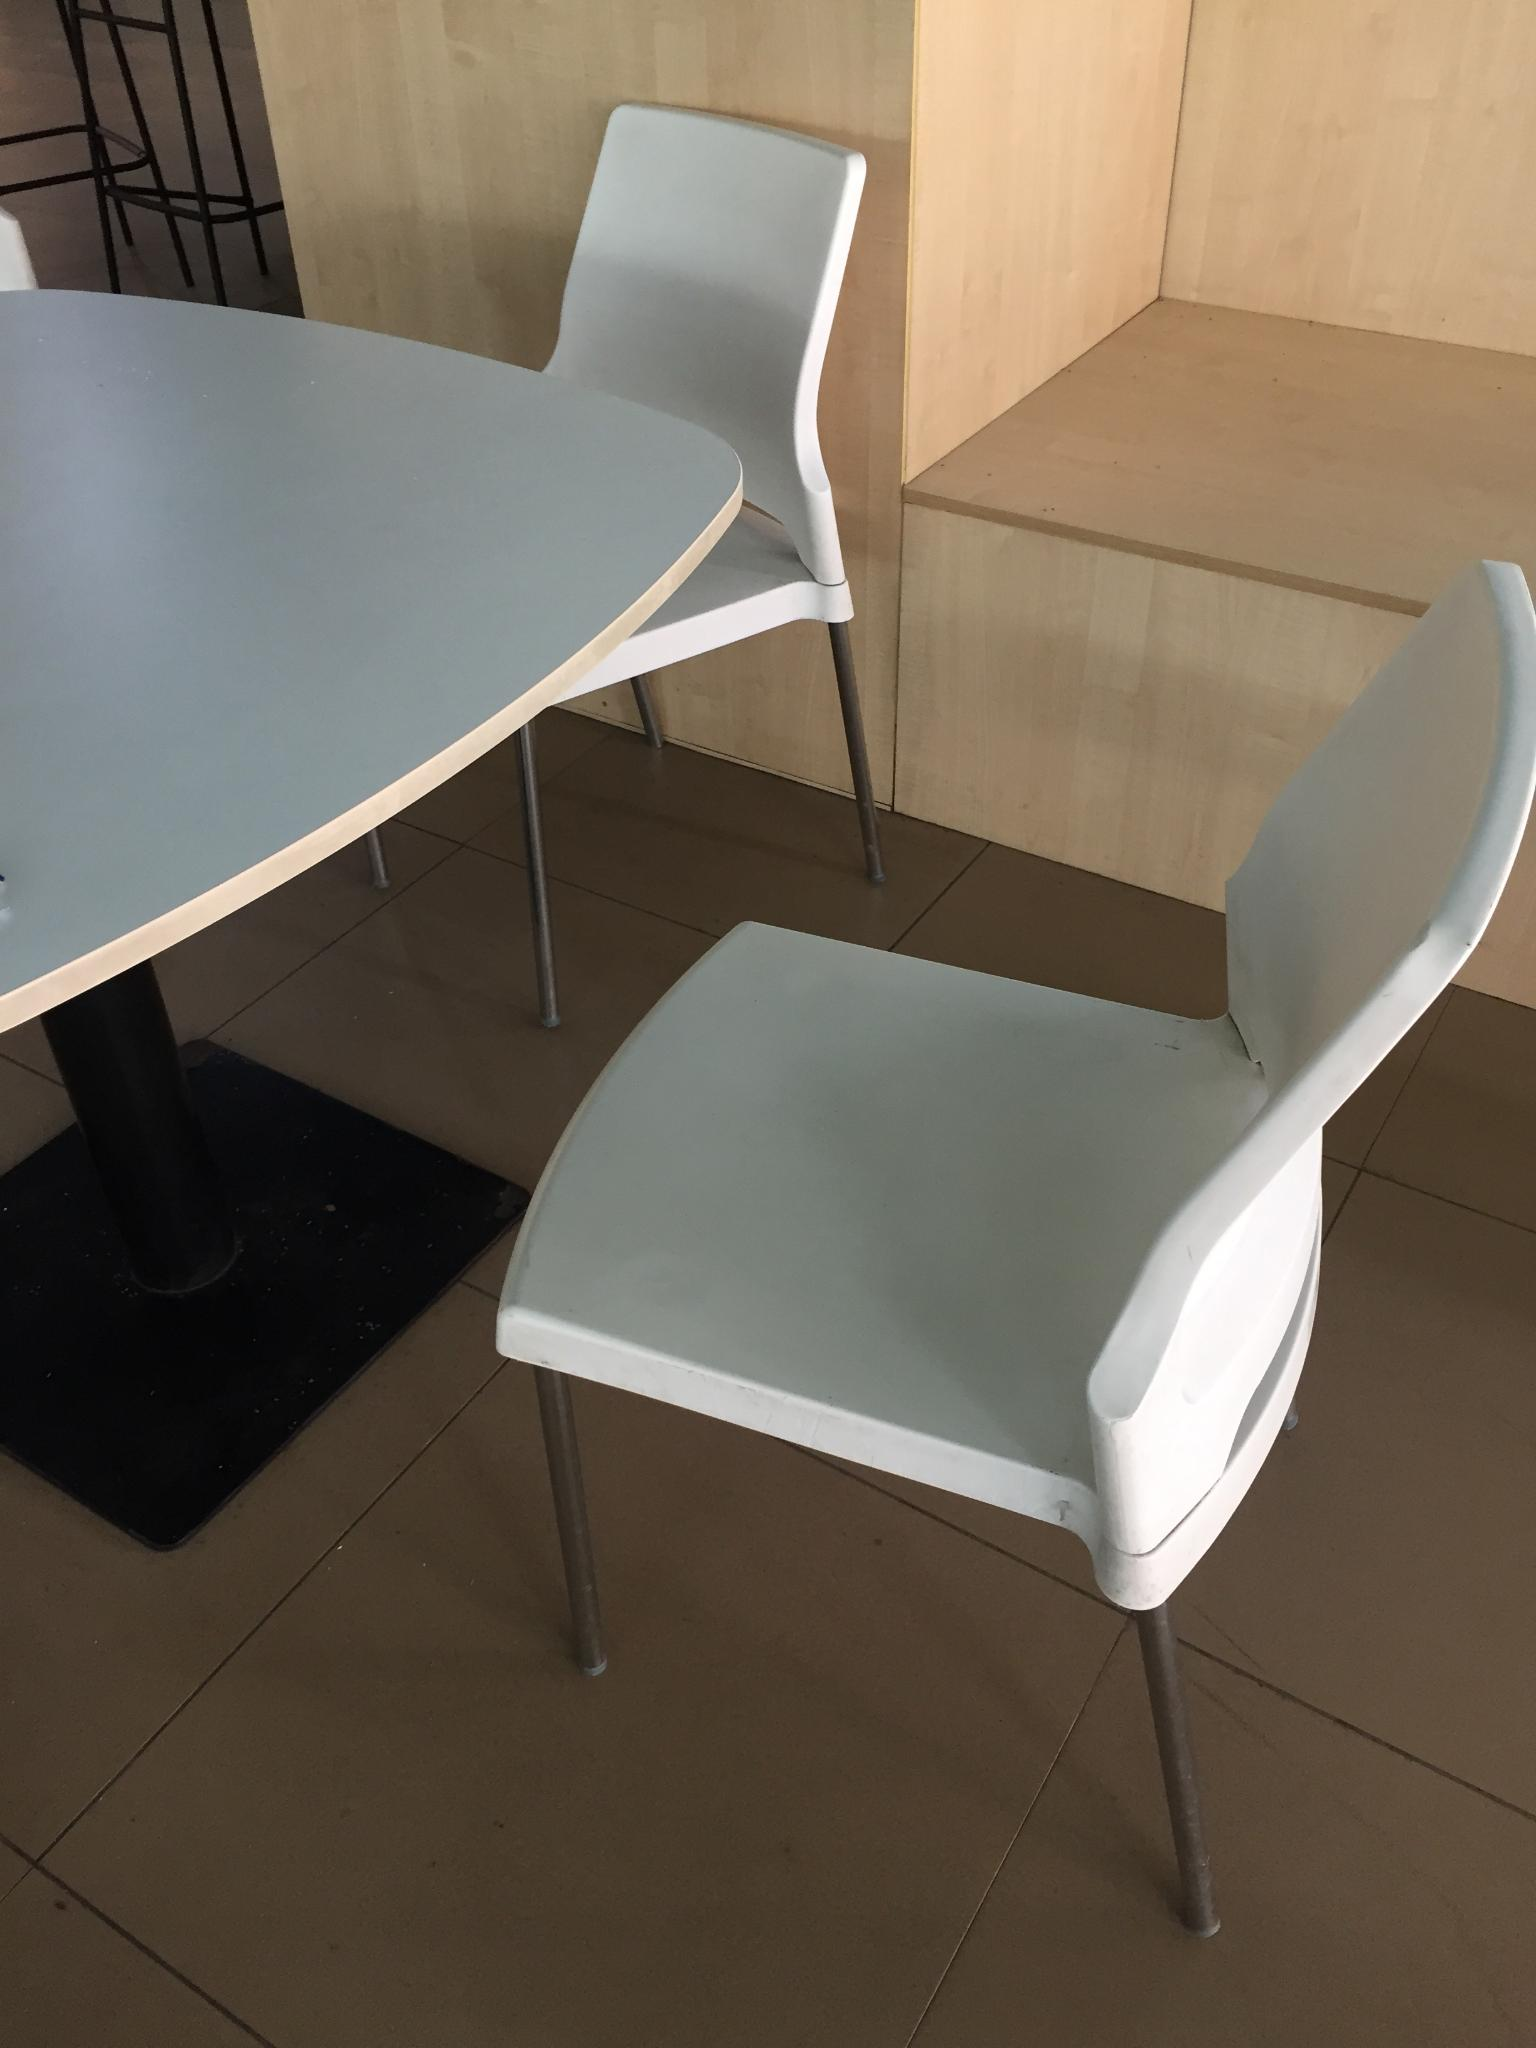chair: (492, 556, 1533, 1938), (440, 84, 879, 877)
